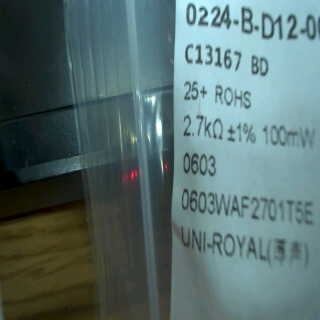2.7kR: (180, 111, 225, 145)
